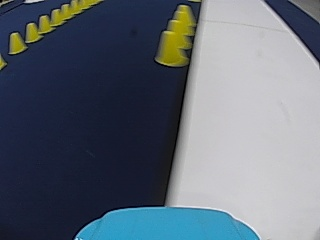cone: (153, 27, 188, 66), (170, 4, 195, 40), (165, 18, 190, 51), (8, 31, 26, 54), (166, 19, 185, 34), (37, 14, 51, 33), (25, 22, 38, 42), (50, 8, 62, 25), (60, 3, 70, 19)
